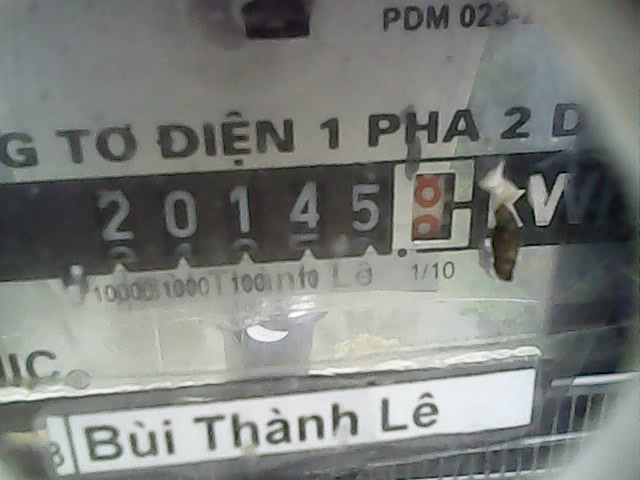phy_plate: (87, 157, 479, 269)
